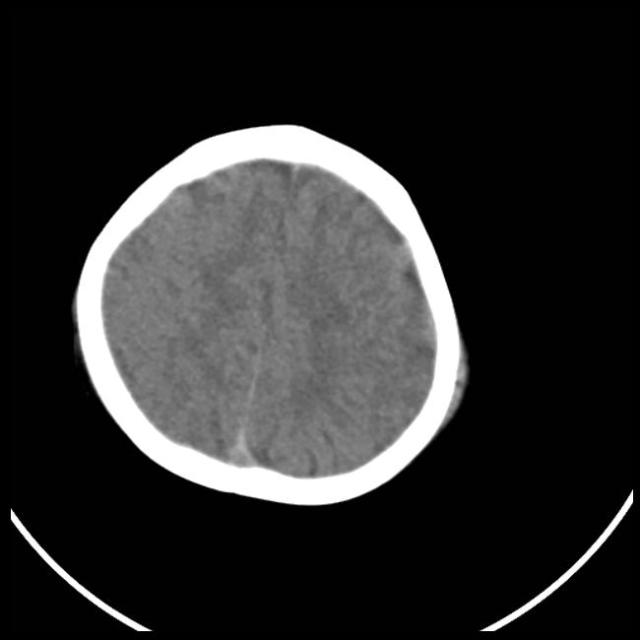lesion: (69, 119, 473, 509)
